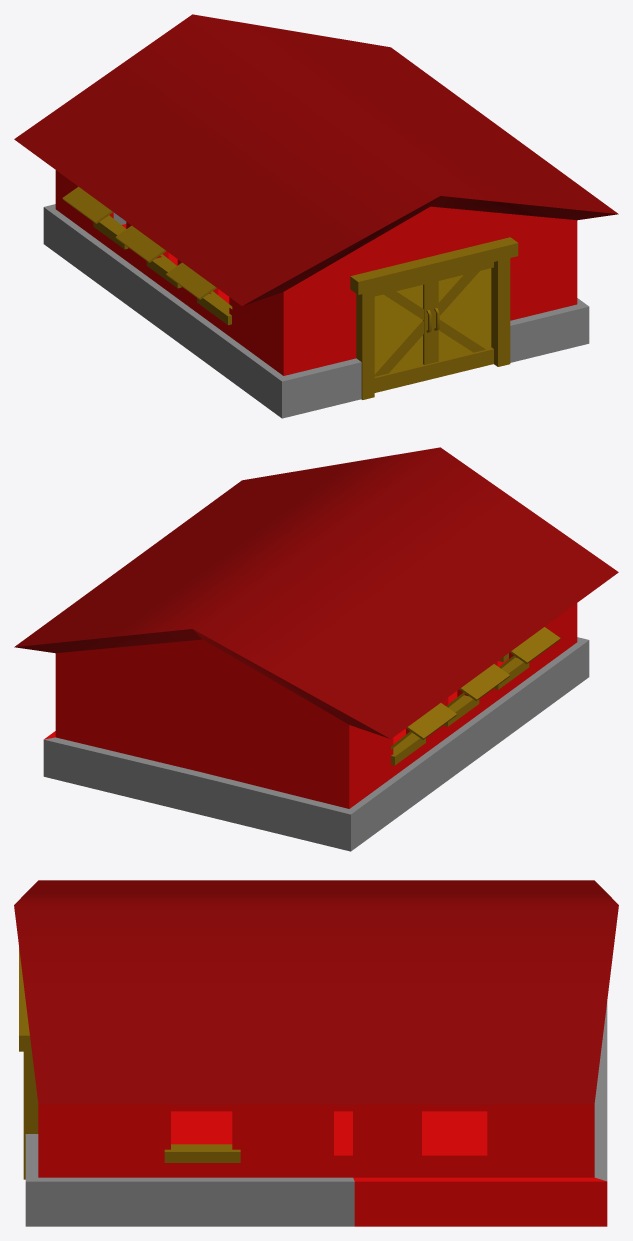
File: house_5.fbx
3 renders of one model, top to bottom at view 1: azimuth 30°, elevation 25°; view 2: azimuth 150°, elevation 25°; view 3: azimuth 270°, elevation 25°, orthographic. The views are drawn at different scales.
Visible parts, largest first — view 1: polySurface117; view 2: polySurface117; view 3: polySurface117.
Part boxes in pixels (left/top/right/bottom): polySurface117: left=14, top=14, right=618, bottom=418; polySurface117: left=14, top=447, right=618, bottom=851; polySurface117: left=14, top=880, right=618, bottom=1226.
Bounding box in the file's own units: 97.56 × 46.78 × 111.
